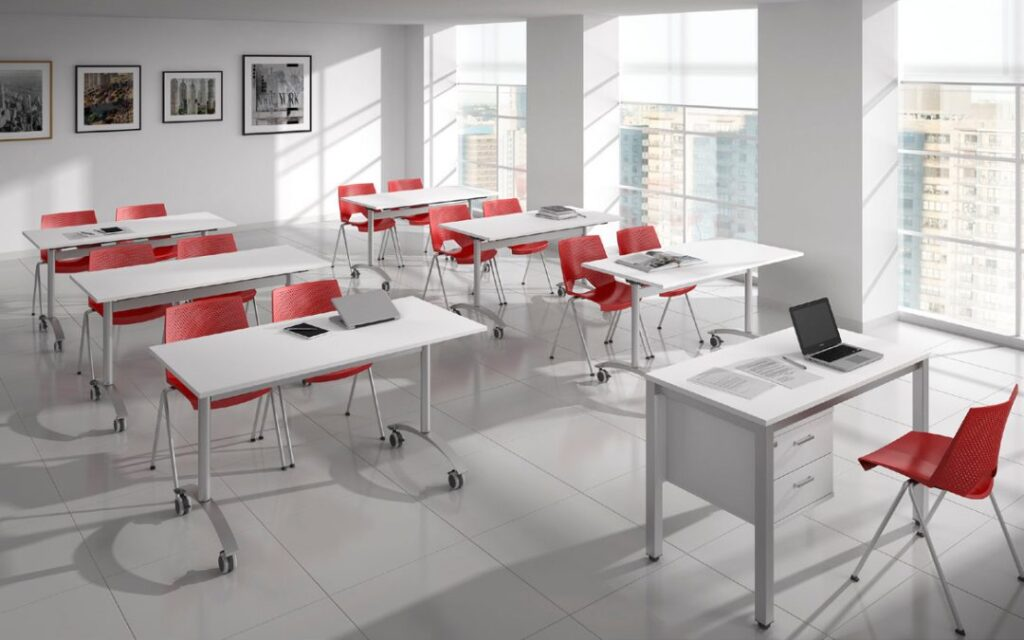m01: (148, 294, 488, 574), (644, 321, 933, 632)
